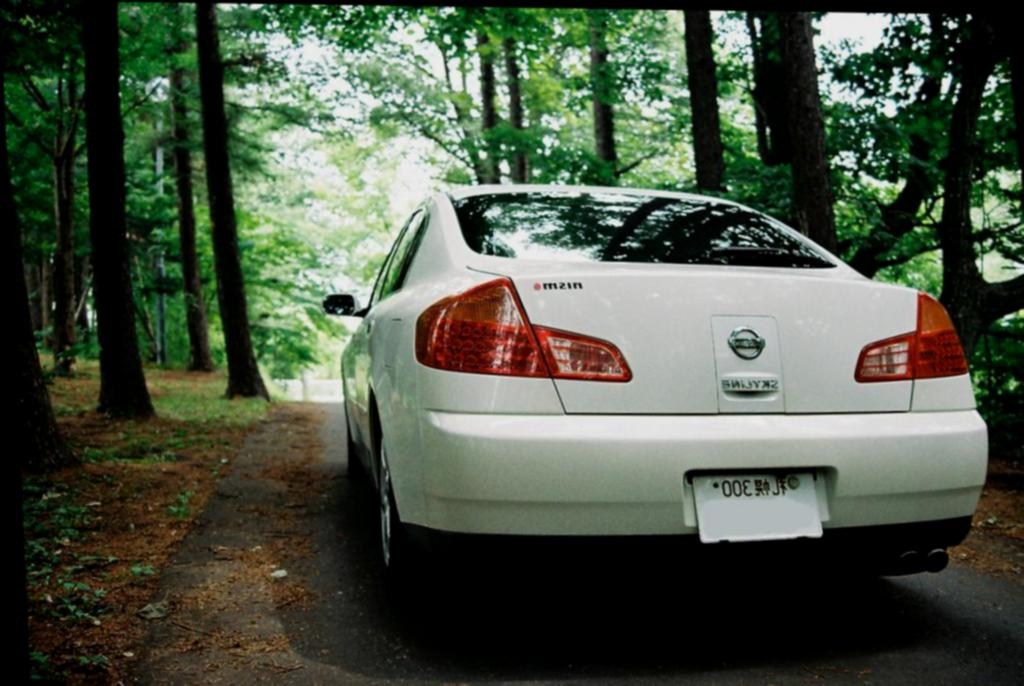License_Plate: (690, 471, 824, 543)
